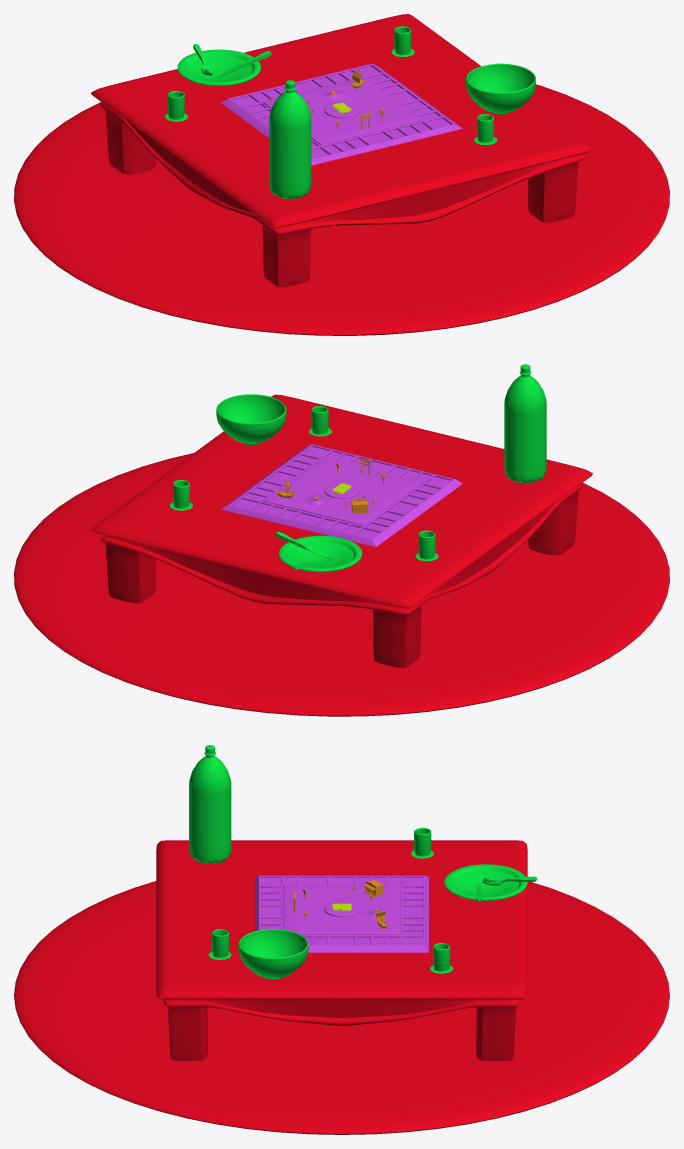
The model's file is Board.fbx.
3 renders of one model, top to bottom at view 1: azimuth 30°, elevation 25°; view 2: azimuth 150°, elevation 25°; view 3: azimuth 270°, elevation 25°, orthographic.
Visible parts, largest first — view 1: Board; view 2: Board; view 3: Board.
Part boxes in pixels (box(x1,y1,x2,y2)): Board: box(14, 14, 669, 335); Board: box(14, 364, 669, 716); Board: box(14, 745, 669, 1134).
Size of the model in its own units: 49119 by 16097 by 49119.
